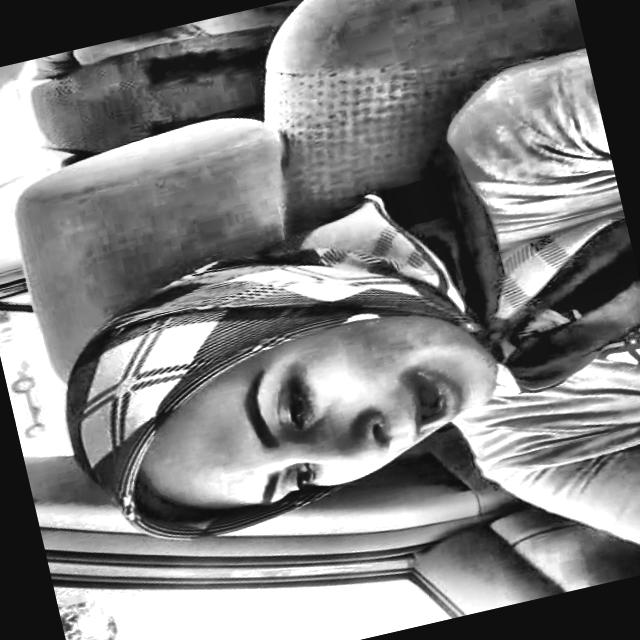open_mouth: (392, 358, 481, 442)
